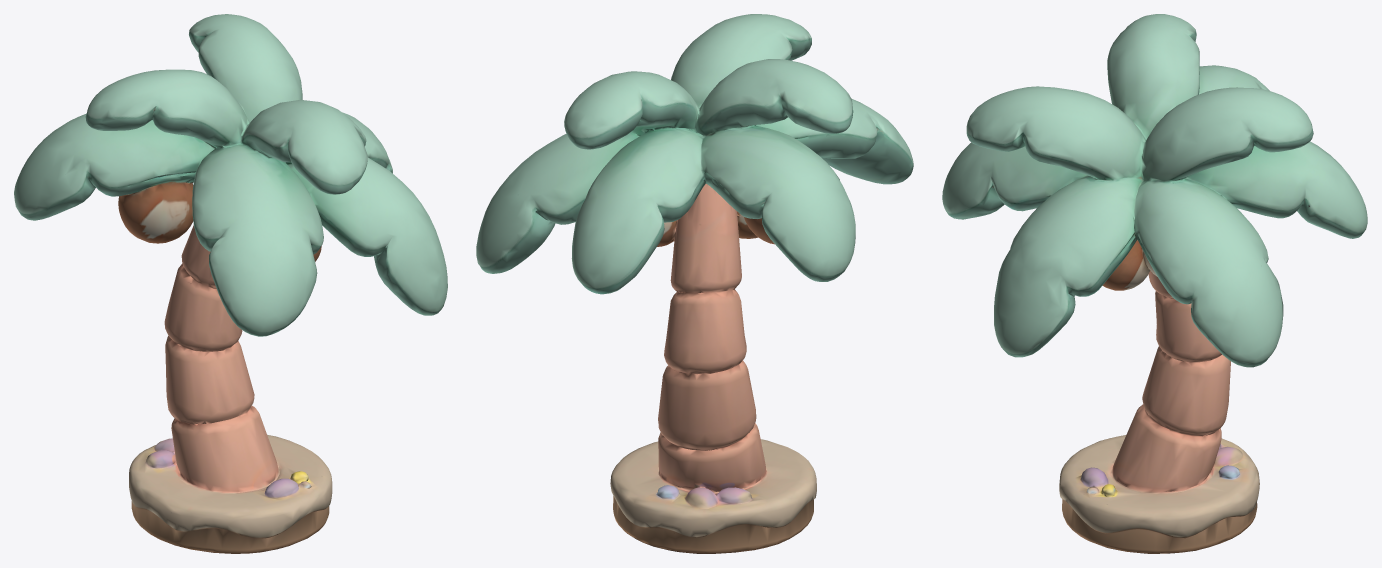
The picture shows the model from 3 angles, left to right: view 1: azimuth 30°, elevation 25°; view 2: azimuth 150°, elevation 25°; view 3: azimuth 270°, elevation 25°; orthographic projection. The views are drawn at different scales.
Parts seen in each view (by area): view 1: repaired; view 2: repaired; view 3: repaired.
Part boxes in pixels (x1,y1,x2,y2): repaired: [14, 14, 447, 553]; repaired: [476, 14, 913, 553]; repaired: [942, 14, 1367, 553].
Size of the model in its own units: 0.8187 by 0.9995 by 0.8461.
1 material, 1 textured.
